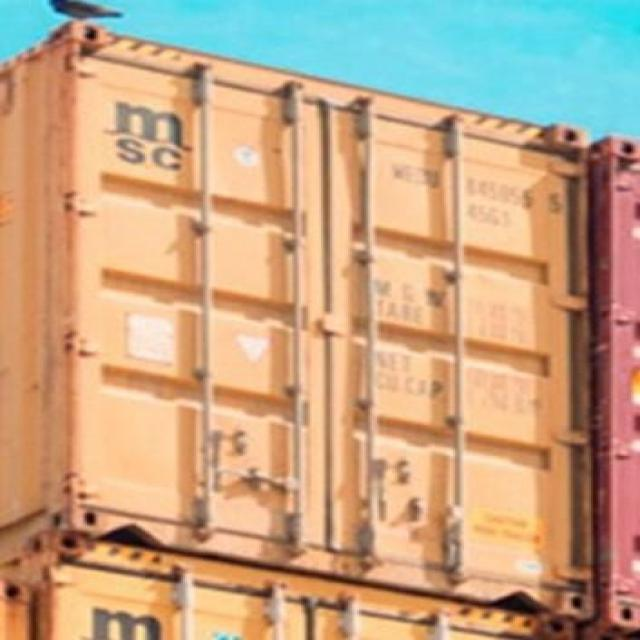ISO: (464, 196, 522, 231)
container_number: (392, 162, 557, 199)
